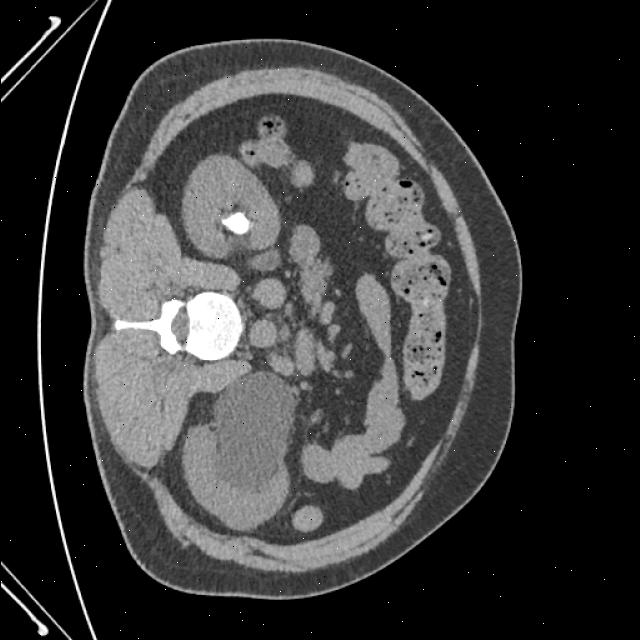kidneystone: (221, 211, 250, 235)
